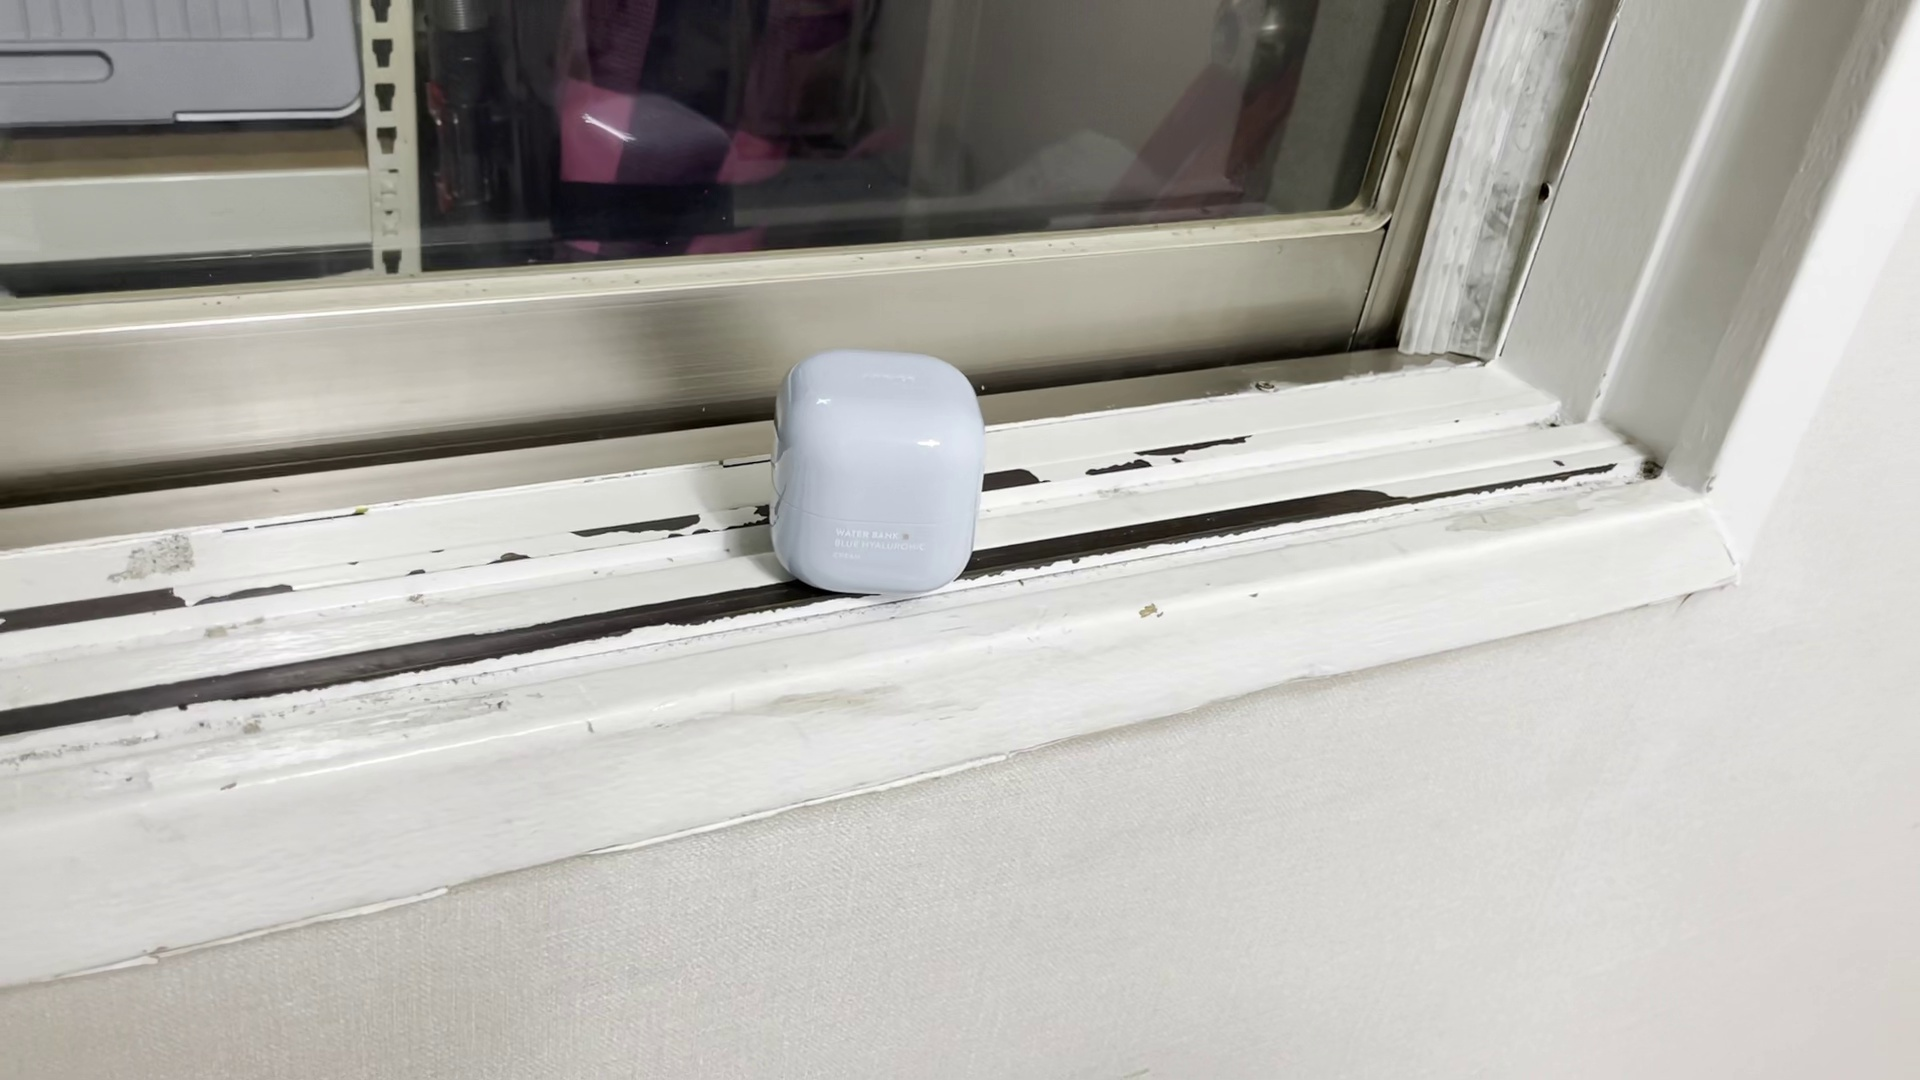cream: (775, 348, 981, 588)
